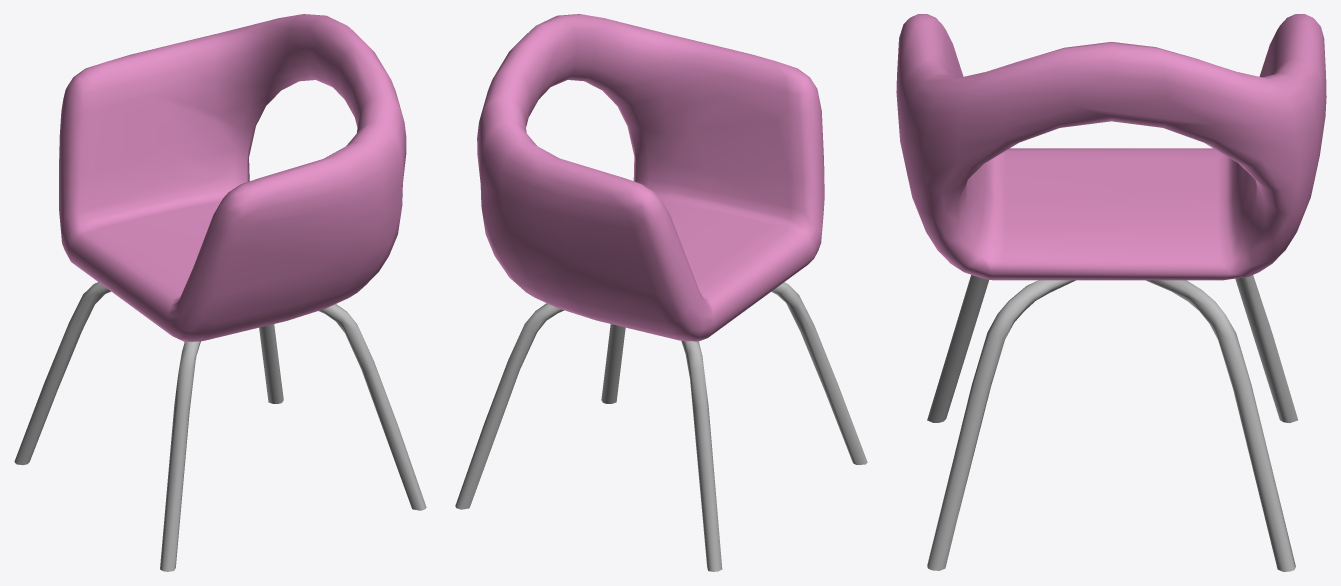
The model's file is chair_05_pink.fbx.
The picture shows the model from 3 angles, left to right: view 1: azimuth 30°, elevation 25°; view 2: azimuth 150°, elevation 25°; view 3: azimuth 270°, elevation 25°; orthographic projection. The views are drawn at different scales.
Visible parts, largest first — view 1: chair_05_pink; view 2: chair_05_pink; view 3: chair_05_pink.
Boxes of the visible parts, x1,y1,x2,y2 form: chair_05_pink: (14, 14, 426, 571); chair_05_pink: (455, 14, 867, 571); chair_05_pink: (896, 14, 1326, 571).
Bounding box in the file's own units: 53.32 × 81.65 × 61.21.
2 materials, 2 textured.
